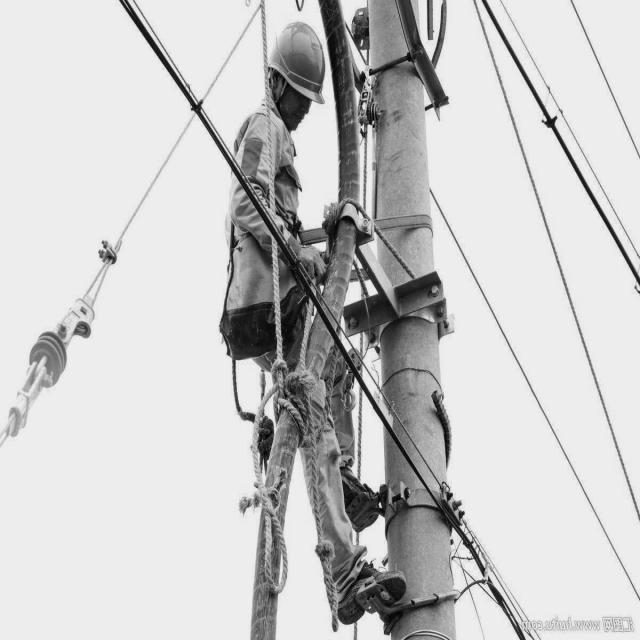face_nomask: (276, 79, 312, 137)
hand_noglove: (292, 240, 326, 282)
head_helmet: (268, 28, 324, 78)
person: (224, 19, 331, 371)
shoes: (329, 550, 408, 628), (326, 460, 385, 538)
